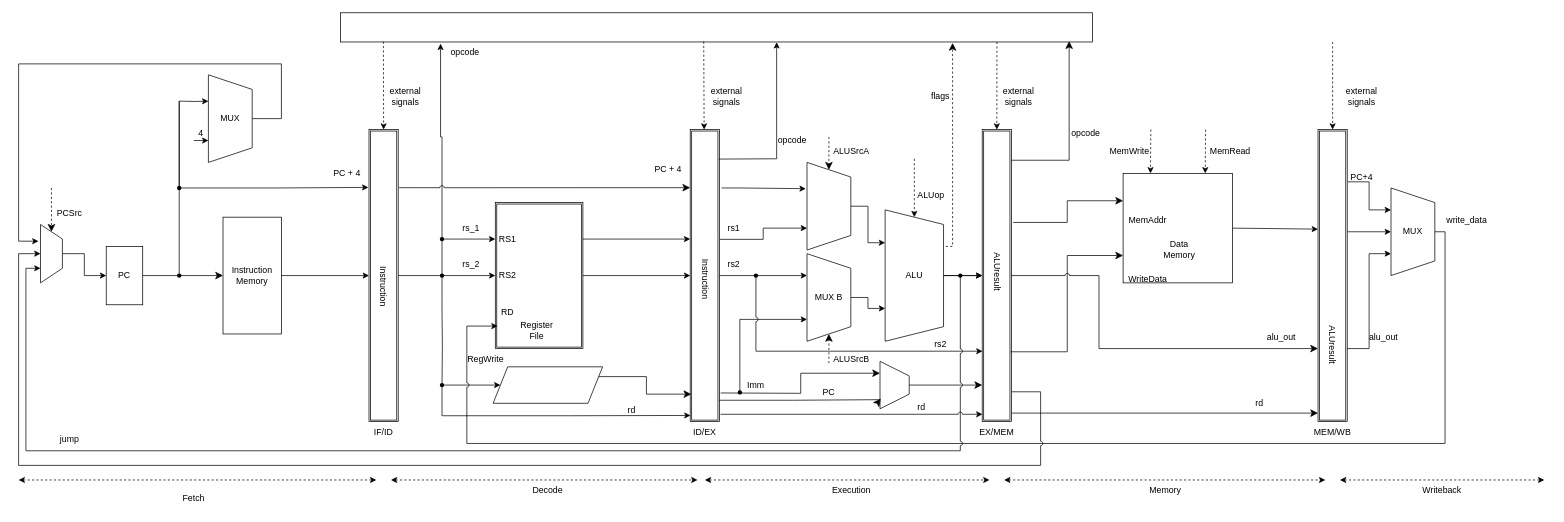
The diagram is 1564 pixels wide and 522 high, and some of its shapes have lost their labels. The centre of each missing label's shape, as x and y in pixels:
Addr out: the point at 894,385
Control Unit: the point at 716,27
Imm Generator: the point at 547,384
M U X: the point at 51,253
MUX A: the point at 828,206
